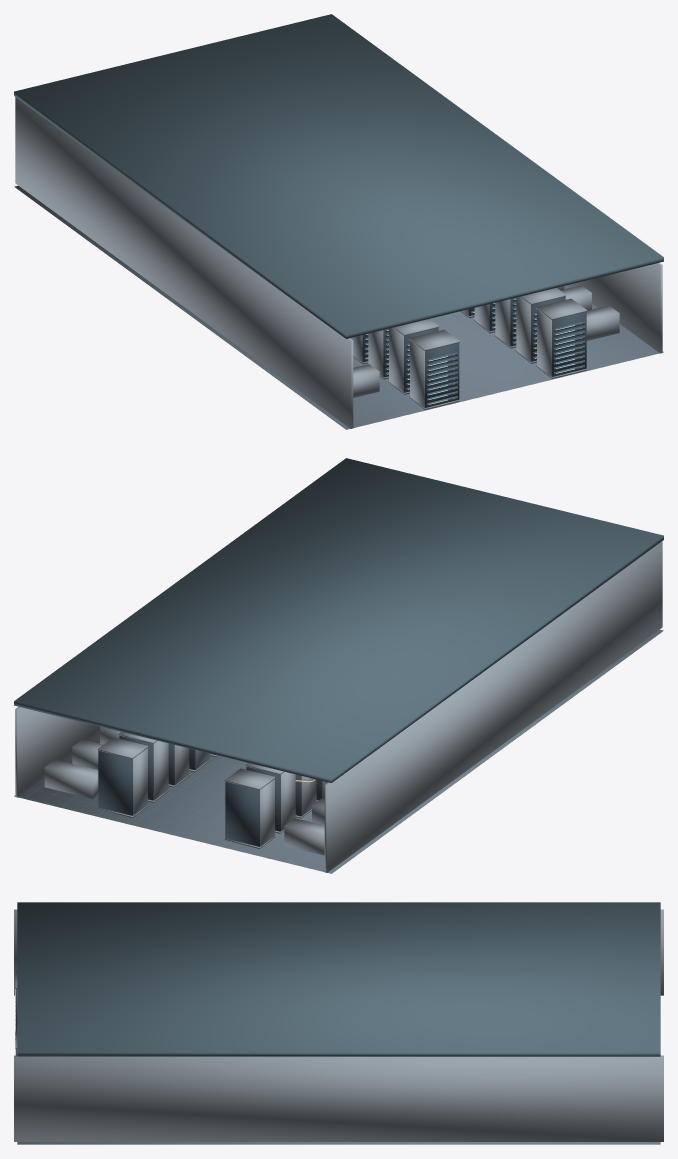
Rendered from hall.glb.
The picture shows the model from 3 angles, top to bottom: view 1: azimuth 30°, elevation 25°; view 2: azimuth 150°, elevation 25°; view 3: azimuth 270°, elevation 25°; orthographic projection. The views are drawn at different scales.
Visible parts, largest first — view 1: hall_node_0026, hall_node_0005, hall_node_0002, hall_node_0004, hall_node_0187, hall_node_0177, hall_node_0182, hall_node_0234, hall_node_0180, hall_node_0185, hall_node_0170, hall_node_0175 (+5 smaller); view 2: hall_node_0026, hall_node_0005, hall_node_0002, hall_node_0004, hall_node_0027, hall_node_0032, hall_node_0214, hall_node_0213, hall_node_0030, hall_node_0035, hall_node_0045, hall_node_0040 (+3 smaller); view 3: hall_node_0026, hall_node_0004, hall_node_0002, hall_node_0005.
Part boxes in pixels (left/top/right/bottom): hall_node_0026: left=14, top=14, right=663, bottom=338; hall_node_0005: left=15, top=97, right=353, bottom=428; hall_node_0002: left=14, top=185, right=663, bottom=429; hall_node_0004: left=567, top=263, right=662, bottom=353; hall_node_0187: left=364, top=298, right=584, bottom=406; hall_node_0177: left=415, top=343, right=459, bottom=409; hall_node_0182: left=539, top=311, right=586, bottom=378; hall_node_0234: left=586, top=305, right=619, bottom=340; hall_node_0180: left=410, top=340, right=424, bottom=407; hall_node_0185: left=537, top=309, right=551, bottom=376; hall_node_0170: left=389, top=328, right=403, bottom=392; hall_node_0175: left=516, top=297, right=530, bottom=361; hall_node_0026: left=14, top=458, right=663, bottom=782; hall_node_0005: left=324, top=541, right=662, bottom=872; hall_node_0002: left=14, top=629, right=663, bottom=873; hall_node_0004: left=15, top=707, right=99, bottom=797; hall_node_0027: left=225, top=781, right=271, bottom=848; hall_node_0032: left=98, top=750, right=138, bottom=817; hall_node_0214: left=44, top=759, right=98, bottom=798; hall_node_0213: left=284, top=818, right=324, bottom=855; hall_node_0030: left=260, top=779, right=274, bottom=846; hall_node_0035: left=133, top=748, right=147, bottom=815; hall_node_0045: left=153, top=741, right=168, bottom=800; hall_node_0040: left=281, top=772, right=295, bottom=831; hall_node_0026: left=17, top=902, right=660, bottom=1056; hall_node_0004: left=14, top=1055, right=663, bottom=1141; hall_node_0002: left=17, top=1142, right=660, bottom=1144; hall_node_0005: left=14, top=909, right=663, bottom=995.
Size of the model in its own units: 53.01 by 15.17 by 97.
